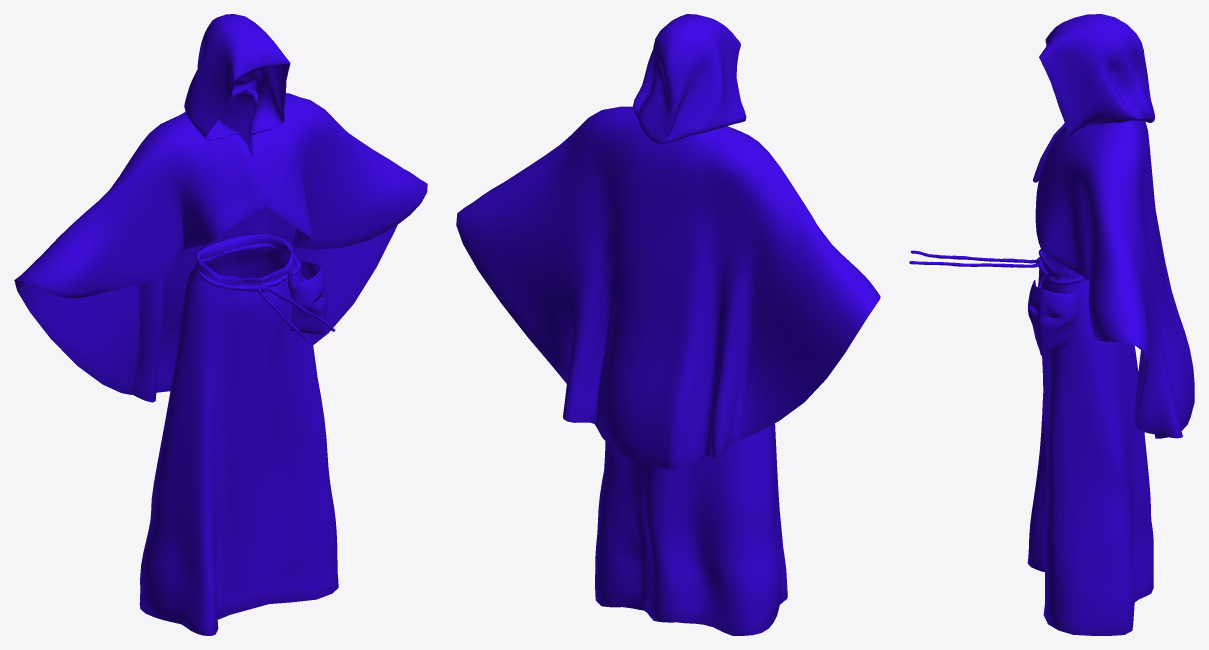
Rendered from Clothes_.fbx.
The picture shows the model from 3 angles, left to right: view 1: azimuth 30°, elevation 25°; view 2: azimuth 150°, elevation 25°; view 3: azimuth 270°, elevation 25°; orthographic projection.
Parts seen in each view (by area): view 1: cape, skirt, hood, mask, rope_1; view 2: cape, skirt, hood; view 3: skirt, cape, hood, mask, rope_5, rope_2.
Boxes of the visible parts, left/top/right/bottom form: cape: left=14, top=89, right=427, bottom=402; skirt: left=139, top=233, right=338, bottom=635; hood: left=184, top=14, right=290, bottom=140; mask: left=290, top=261, right=327, bottom=334; rope_1: left=195, top=243, right=300, bottom=291; cape: left=456, top=106, right=880, bottom=469; skirt: left=595, top=423, right=787, bottom=635; hood: left=633, top=14, right=746, bottom=144; skirt: left=1027, top=249, right=1153, bottom=635; cape: left=1033, top=120, right=1194, bottom=438; hood: left=1039, top=14, right=1154, bottom=136; mask: left=1028, top=280, right=1080, bottom=355; rope_5: left=909, top=261, right=1038, bottom=267; rope_2: left=911, top=250, right=1036, bottom=263.
Bounding box in the file's own units: 138 × 188 × 83.82.
